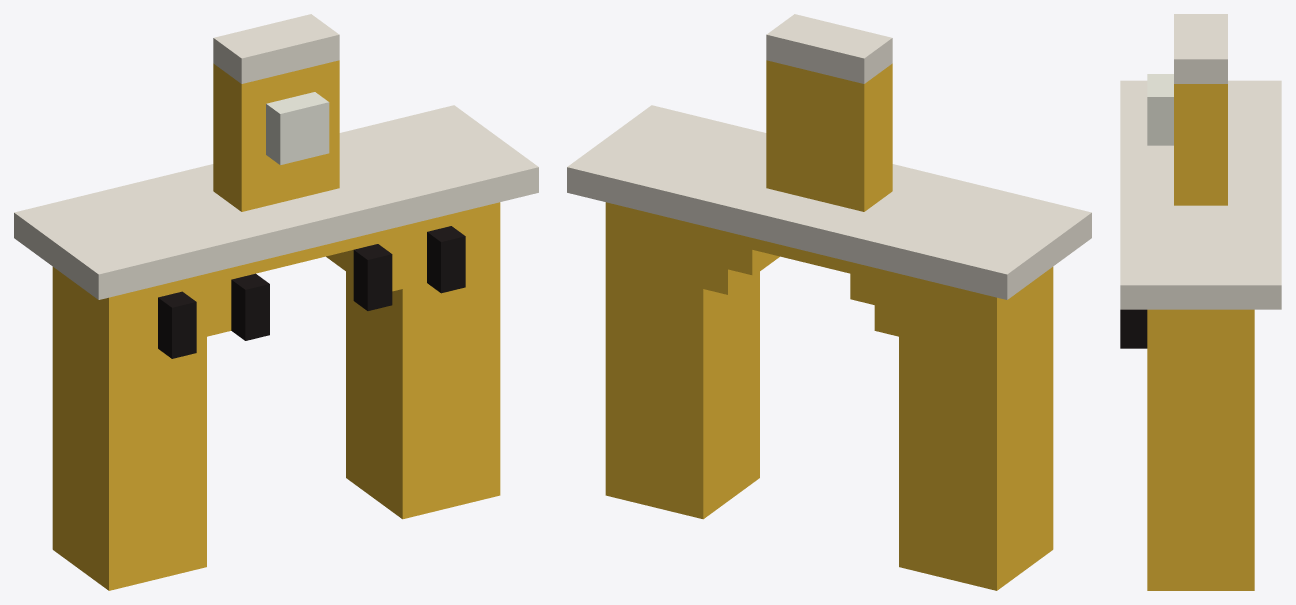
Rendered from chapin_arco.obj.
The picture shows the model from 3 angles, left to right: view 1: azimuth 30°, elevation 25°; view 2: azimuth 150°, elevation 25°; view 3: azimuth 270°, elevation 25°; orthographic projection. The views are drawn at different scales.
Visible parts, largest first — view 1: arco, cornisa, torre, ventanita, remate, reloj; view 2: arco, cornisa, torre, remate; view 3: arco, cornisa, torre, remate, reloj, ventanita.
Boxes of the visible parts, box(x1,y1,x2,y2) form: arco: box(52, 202, 500, 590); cornisa: box(14, 105, 538, 299); torre: box(213, 60, 339, 211); ventanita: box(158, 226, 465, 358); remate: box(213, 14, 339, 83); reloj: box(266, 92, 329, 165); arco: box(605, 202, 1053, 590); cornisa: box(567, 105, 1091, 299); torre: box(766, 60, 892, 211); remate: box(766, 14, 892, 83); arco: box(1147, 309, 1254, 590); cornisa: box(1120, 80, 1281, 309); torre: box(1174, 84, 1227, 205); remate: box(1174, 14, 1227, 83); reloj: box(1147, 74, 1173, 145); ventanita: box(1120, 309, 1147, 348).
Bounding box in the file's own units: 0.9 × 0.95 × 0.3.
